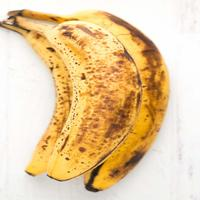banane: (3, 5, 173, 192)
